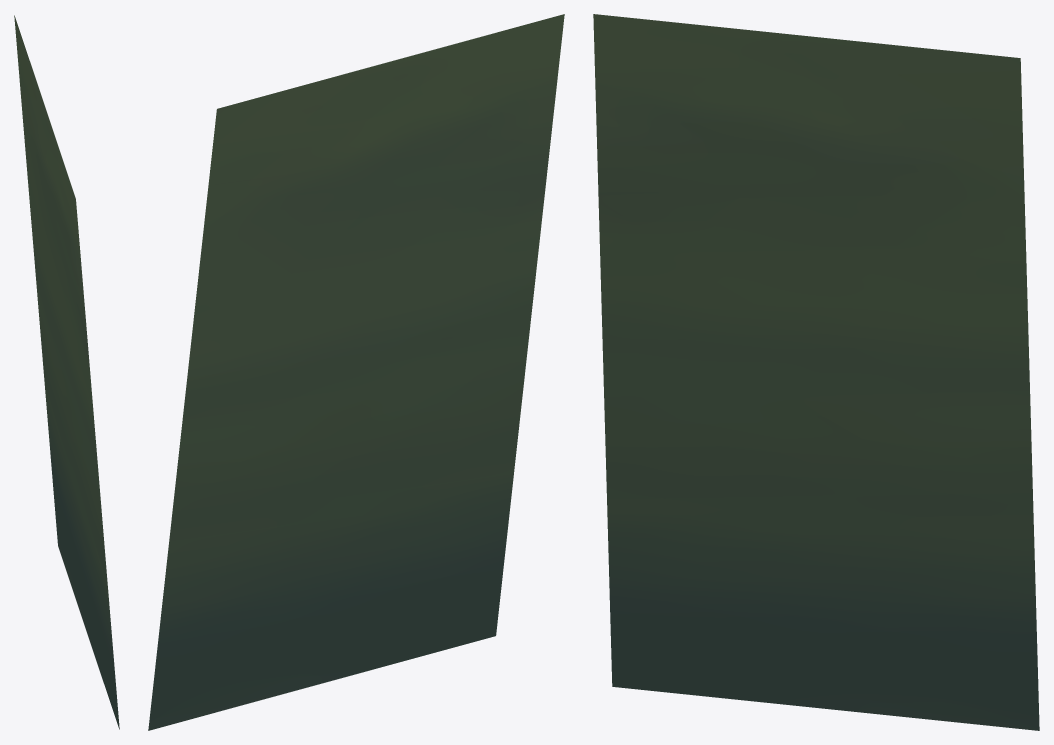
Rendered from pplane117_lambert6_0_lev2.glb.
3 renders of one model, left to right at view 1: azimuth 30°, elevation 25°; view 2: azimuth 150°, elevation 25°; view 3: azimuth 270°, elevation 25°, orthographic. The views are drawn at different scales.
Visible parts, largest first — view 1: pplane117_lambert6_0_lev2; view 2: pplane117_lambert6_0_lev2; view 3: pplane117_lambert6_0_lev2.
Boxes of the visible parts, left/top/right/bottom form: pplane117_lambert6_0_lev2: left=14, top=15, right=119, bottom=729; pplane117_lambert6_0_lev2: left=148, top=14, right=564, bottom=730; pplane117_lambert6_0_lev2: left=593, top=14, right=1039, bottom=730.
Bounding box in the file's own units: 0.0512 × 0.1617 × 0.0979.
Materials: 1 (1 with a texture image).
